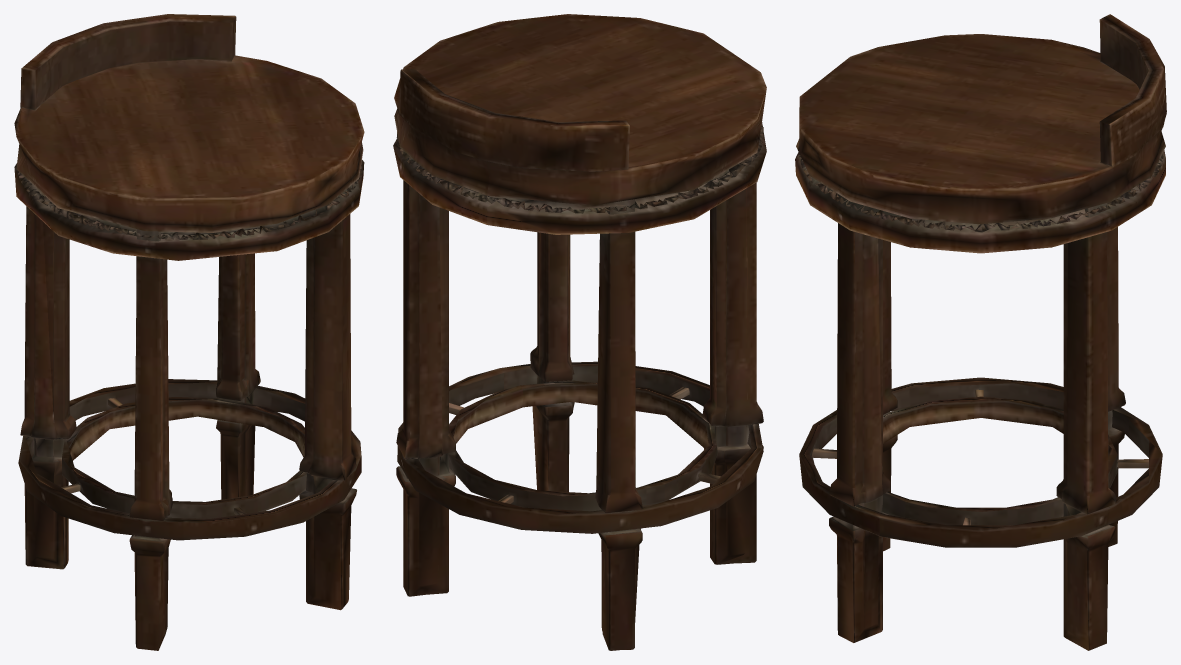
The model's file is bar_chair_round_01.glb.
The picture shows the model from 3 angles, left to right: view 1: azimuth 30°, elevation 25°; view 2: azimuth 150°, elevation 25°; view 3: azimuth 270°, elevation 25°; orthographic projection. The views are drawn at different scales.
Parts seen in each view (by area): view 1: bar_chair_round_01; view 2: bar_chair_round_01; view 3: bar_chair_round_01.
Boxes of the visible parts, bbox=[...] form: bar_chair_round_01: bbox=[14, 14, 364, 650]; bar_chair_round_01: bbox=[393, 14, 766, 650]; bar_chair_round_01: bbox=[795, 14, 1166, 650].
Size of the model in its own units: 0.4832 by 0.7505 by 0.4832.
1 material, 1 textured.
